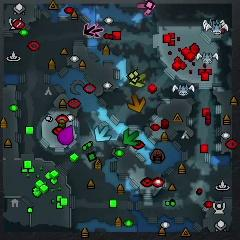p3: (58, 125, 74, 145)
x1: (137, 1, 156, 15)
x1Clone: (93, 24, 104, 39), (83, 23, 95, 36)
x2: (129, 73, 146, 88)
x3: (95, 125, 111, 141)
x4: (123, 129, 139, 145)
x5: (128, 94, 145, 111)
